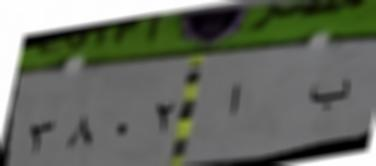0: (109, 114, 134, 142)
2: (148, 95, 177, 137)
3: (21, 116, 56, 155)
8: (63, 117, 96, 148)
alif: (226, 79, 246, 124)
baa: (304, 69, 352, 114)
